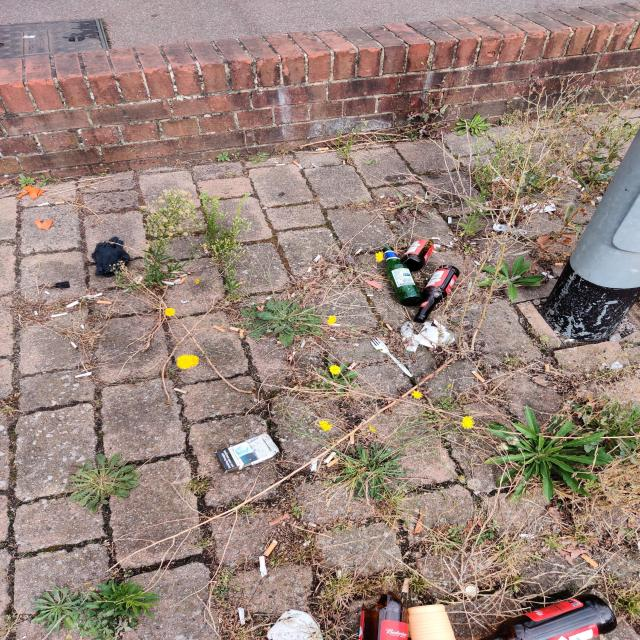litter: (351, 591, 622, 639), (383, 233, 468, 328), (300, 425, 371, 476), (364, 332, 421, 385), (44, 287, 122, 319), (405, 603, 456, 637), (254, 539, 291, 577), (207, 317, 254, 345)
